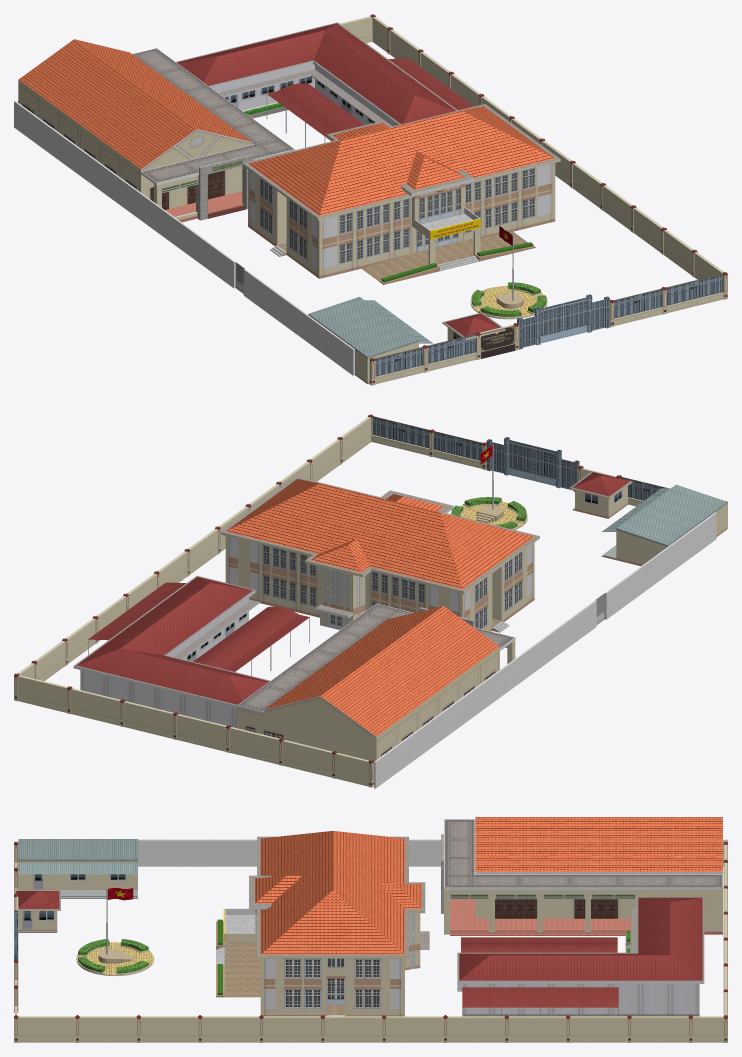
The model's file is UyBanMatTranToQuocTinhBinhPhuoc.glb.
3 renders of one model, top to bottom at view 1: azimuth 30°, elevation 25°; view 2: azimuth 150°, elevation 25°; view 3: azimuth 270°, elevation 25°, orthographic.
Visible parts, largest first — view 1: BPH018_UyBanMatTranToQuocTinhBinhPhuoc_nha_B_C, BPH018_UyBanMatTranToQuocTinhBinhPhuoc_nha_A, Object039, Object038, BPH018_UyBanMatTranToQuocTinhBinhPhuoc_nha_baove_nhaxe.002, BPH018_UyBanMatTranToQuocTinhBinhPhuoc_nha_baove_nhaxe.004, BPH018_UyBanMatTranToQuocTinhBinhPhuoc_nha_baove_nhaxe.001, BPH018_UyBanMatTranToQuocTinhBinhPhuoc_nha_baove_nhaxe.003, BPH018_UyBanMatTranToQuocTinhBinhPhuoc_nha_baove_nhaxe; view 2: BPH018_UyBanMatTranToQuocTinhBinhPhuoc_nha_B_C, BPH018_UyBanMatTranToQuocTinhBinhPhuoc_nha_A, Object039, Object038, BPH018_UyBanMatTranToQuocTinhBinhPhuoc_nha_baove_nhaxe.002, BPH018_UyBanMatTranToQuocTinhBinhPhuoc_nha_baove_nhaxe.004, BPH018_UyBanMatTranToQuocTinhBinhPhuoc_nha_baove_nhaxe, BPH018_UyBanMatTranToQuocTinhBinhPhuoc_nha_baove_nhaxe.001, BPH018_UyBanMatTranToQuocTinhBinhPhuoc_nha_baove_nhaxe.003; view 3: BPH018_UyBanMatTranToQuocTinhBinhPhuoc_nha_B_C, BPH018_UyBanMatTranToQuocTinhBinhPhuoc_nha_A, Object039, BPH018_UyBanMatTranToQuocTinhBinhPhuoc_nha_baove_nhaxe.002, Object038, BPH018_UyBanMatTranToQuocTinhBinhPhuoc_nha_baove_nhaxe.003, BPH018_UyBanMatTranToQuocTinhBinhPhuoc_nha_baove_nhaxe.001, BPH018_UyBanMatTranToQuocTinhBinhPhuoc_nha_baove_nhaxe.004, BPH018_UyBanMatTranToQuocTinhBinhPhuoc_nha_baove_nhaxe.
Boxes of the visible parts, x1,y1,x2,y2 form: BPH018_UyBanMatTranToQuocTinhBinhPhuoc_nha_B_C: (18,22,457,222); BPH018_UyBanMatTranToQuocTinhBinhPhuoc_nha_A: (242,104,560,284); Object039: (18,14,727,385); Object038: (14,101,354,375); BPH018_UyBanMatTranToQuocTinhBinhPhuoc_nha_baove_nhaxe.002: (308,297,432,384); BPH018_UyBanMatTranToQuocTinhBinhPhuoc_nha_baove_nhaxe.004: (266,83,364,147); BPH018_UyBanMatTranToQuocTinhBinhPhuoc_nha_baove_nhaxe.001: (470,226,547,319); BPH018_UyBanMatTranToQuocTinhBinhPhuoc_nha_baove_nhaxe.003: (388,58,473,110); BPH018_UyBanMatTranToQuocTinhBinhPhuoc_nha_baove_nhaxe: (442,312,505,340); BPH018_UyBanMatTranToQuocTinhBinhPhuoc_nha_B_C: (73,575,515,761); BPH018_UyBanMatTranToQuocTinhBinhPhuoc_nha_A: (220,476,539,632); Object039: (14,414,727,787); Object038: (374,512,716,788); BPH018_UyBanMatTranToQuocTinhBinhPhuoc_nha_baove_nhaxe.002: (601,484,727,566); BPH018_UyBanMatTranToQuocTinhBinhPhuoc_nha_baove_nhaxe.004: (193,606,309,675); BPH018_UyBanMatTranToQuocTinhBinhPhuoc_nha_baove_nhaxe: (569,472,632,518); BPH018_UyBanMatTranToQuocTinhBinhPhuoc_nha_baove_nhaxe.001: (451,444,527,529); BPH018_UyBanMatTranToQuocTinhBinhPhuoc_nha_baove_nhaxe.003: (88,582,186,654); BPH018_UyBanMatTranToQuocTinhBinhPhuoc_nha_B_C: (441,817,722,1016); BPH018_UyBanMatTranToQuocTinhBinhPhuoc_nha_A: (216,831,429,1016); Object039: (14,841,727,1042); BPH018_UyBanMatTranToQuocTinhBinhPhuoc_nha_baove_nhaxe.002: (18,839,137,898); Object038: (138,839,727,866); BPH018_UyBanMatTranToQuocTinhBinhPhuoc_nha_baove_nhaxe.003: (462,987,618,1016); BPH018_UyBanMatTranToQuocTinhBinhPhuoc_nha_baove_nhaxe.001: (76,888,153,976); BPH018_UyBanMatTranToQuocTinhBinhPhuoc_nha_baove_nhaxe.004: (461,937,617,952); BPH018_UyBanMatTranToQuocTinhBinhPhuoc_nha_baove_nhaxe: (14,890,60,932).
Bounding box in the file's own units: 43.13 × 11.33 × 73.5.
Materials: 5 (5 with a texture image).
